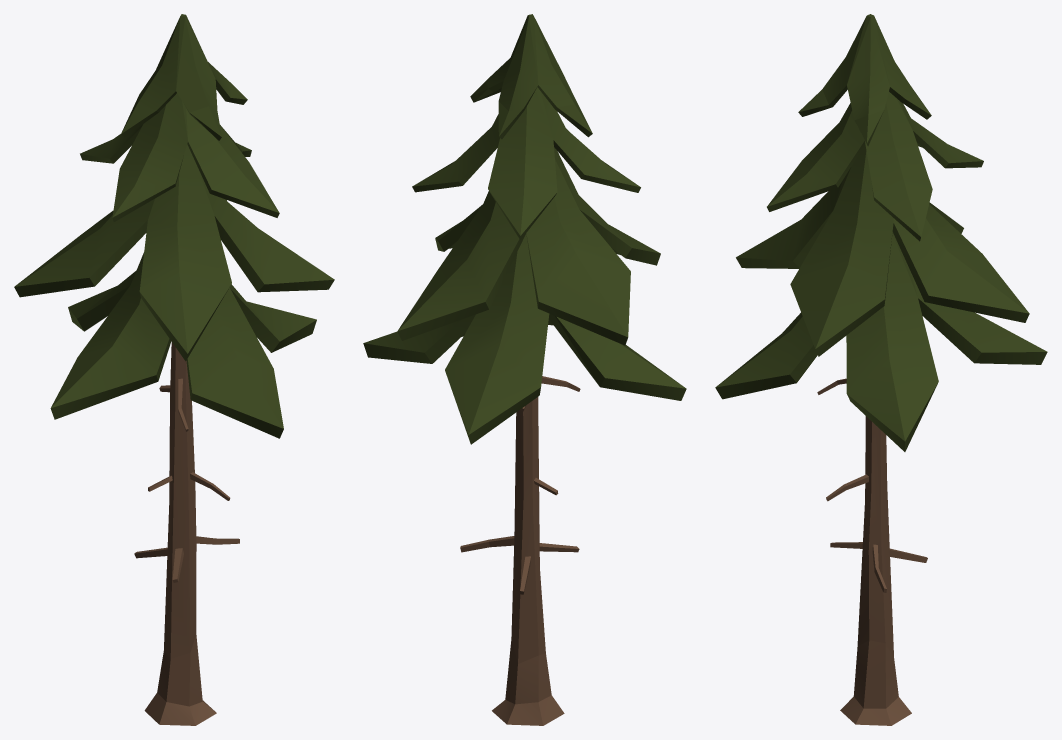
Rendered from tree_3.obj.
The picture shows the model from 3 angles, left to right: view 1: azimuth 30°, elevation 25°; view 2: azimuth 150°, elevation 25°; view 3: azimuth 270°, elevation 25°; orthographic projection.
Visible parts, largest first — view 1: FirA; view 2: FirA; view 3: FirA.
Part boxes in pixels (bbox=[...]): FirA: bbox=[14, 14, 334, 725]; FirA: bbox=[363, 14, 686, 725]; FirA: bbox=[715, 14, 1047, 725].
Size of the model in its own units: 7.85 by 17.72 by 7.67.
